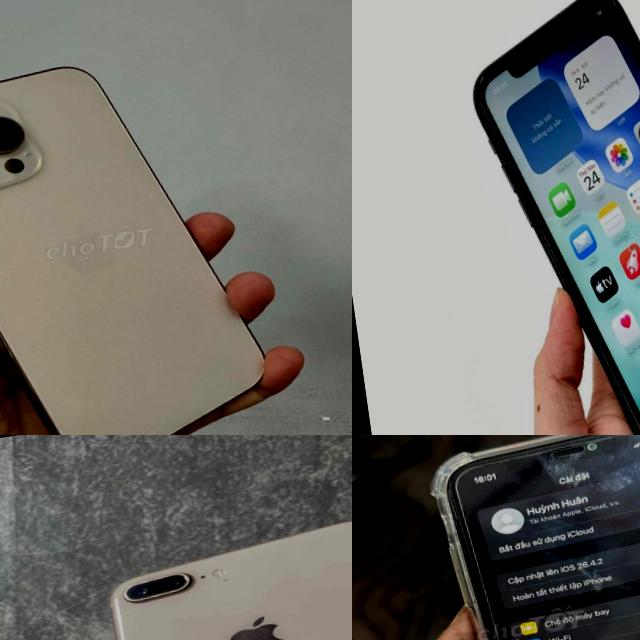gen_11: (455, 0, 640, 435), (415, 435, 640, 640)
gen_14: (0, 40, 282, 435)
gen_7_8: (84, 496, 352, 640)
